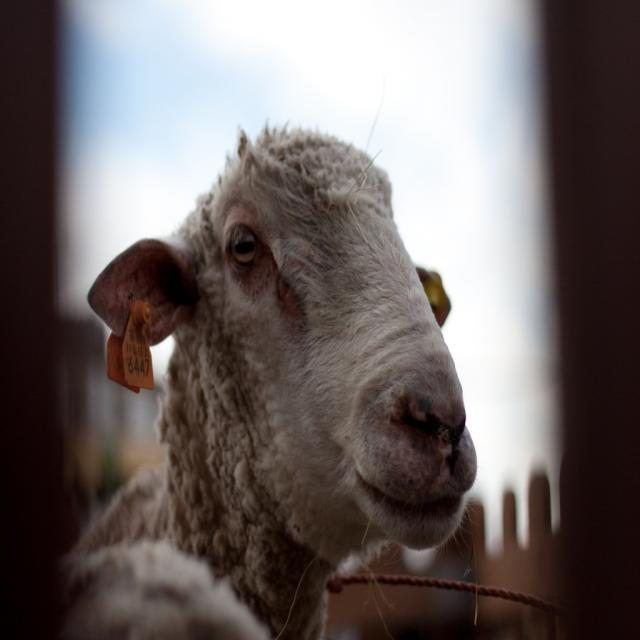Sheep: (79, 68, 500, 640)
